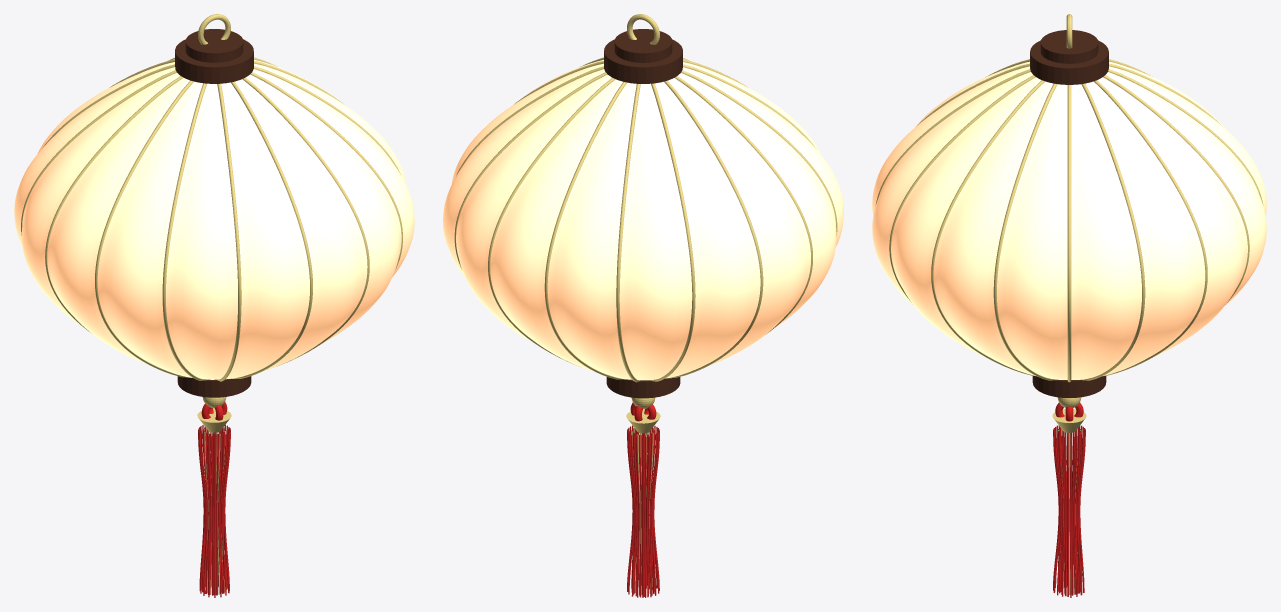
Rendered from hoi_an_lantern.glb.
3 views of the same model, side by side, from view 1: azimuth 30°, elevation 25°; view 2: azimuth 150°, elevation 25°; view 3: azimuth 270°, elevation 25° (orthographic).
Parts seen in each view (by area): view 1: Lantern_Body, Lantern_Top_Collar, Lantern_Top_Tier, Bamboo_Rib_11, Bamboo_Rib_10, Bamboo_Rib_12, Bamboo_Rib_9, Lantern_Bot_Collar, Bamboo_Rib_13, Bamboo_Rib_8, Bamboo_Rib_14, Bamboo_Rib_7; view 2: Lantern_Body, Lantern_Top_Collar, Lantern_Top_Tier, Bamboo_Rib_6, Bamboo_Rib_5, Bamboo_Rib_4, Bamboo_Rib_7, Lantern_Bot_Collar, Bamboo_Rib_3, Bamboo_Rib_8, Bamboo_Rib_2, Bamboo_Rib_9; view 3: Lantern_Body, Lantern_Top_Collar, Lantern_Top_Tier, Bamboo_Rib_0, Bamboo_Rib_1, Bamboo_Rib_15, Bamboo_Rib_2, Bamboo_Rib_14, Lantern_Bot_Collar, Bamboo_Rib_13, Bamboo_Rib_3, Bamboo_Rib_4 (+1 smaller).
Part boxes in pixels (bbox=[...]): Lantern_Body: bbox=[14, 59, 414, 379]; Lantern_Top_Collar: bbox=[175, 39, 253, 83]; Lantern_Top_Tier: bbox=[185, 29, 243, 62]; Bamboo_Rib_11: bbox=[217, 83, 241, 381]; Bamboo_Rib_10: bbox=[162, 83, 206, 380]; Bamboo_Rib_12: bbox=[231, 81, 312, 378]; Bamboo_Rib_9: bbox=[95, 80, 193, 377]; Lantern_Bot_Collar: bbox=[177, 376, 251, 397]; Bamboo_Rib_13: bbox=[242, 77, 369, 366]; Bamboo_Rib_8: bbox=[45, 76, 183, 332]; Bamboo_Rib_14: bbox=[250, 72, 402, 269]; Bamboo_Rib_7: bbox=[21, 70, 176, 235]; Lantern_Body: bbox=[443, 59, 843, 380]; Lantern_Top_Collar: bbox=[604, 39, 682, 83]; Lantern_Top_Tier: bbox=[614, 29, 672, 62]; Bamboo_Rib_6: bbox=[651, 83, 695, 381]; Bamboo_Rib_5: bbox=[616, 84, 640, 382]; Bamboo_Rib_4: bbox=[544, 82, 626, 379]; Bamboo_Rib_7: bbox=[664, 80, 763, 378]; Lantern_Bot_Collar: bbox=[606, 377, 680, 398]; Bamboo_Rib_3: bbox=[488, 78, 615, 366]; Bamboo_Rib_8: bbox=[674, 76, 812, 333]; Bamboo_Rib_2: bbox=[454, 72, 607, 269]; Bamboo_Rib_9: bbox=[681, 70, 837, 235]; Lantern_Body: bbox=[872, 61, 1266, 379]; Lantern_Top_Collar: bbox=[1030, 40, 1108, 84]; Lantern_Top_Tier: bbox=[1040, 30, 1098, 63]; Bamboo_Rib_0: bbox=[1067, 85, 1071, 382]; Bamboo_Rib_1: bbox=[1081, 83, 1145, 380]; Bamboo_Rib_15: bbox=[993, 83, 1057, 380]; Bamboo_Rib_2: bbox=[1094, 80, 1207, 376]; Bamboo_Rib_14: bbox=[931, 80, 1044, 376]; Lantern_Bot_Collar: bbox=[1032, 376, 1106, 397]; Bamboo_Rib_13: bbox=[889, 75, 1035, 302]; Bamboo_Rib_3: bbox=[1103, 75, 1249, 302]; Bamboo_Rib_4: bbox=[1108, 69, 1263, 205].
Size of the model in its own units: 3 by 4.83 by 3.
